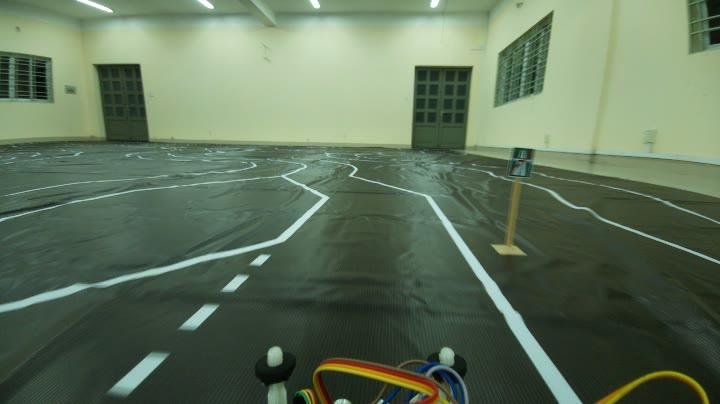highway_exit: (505, 139, 537, 184)
